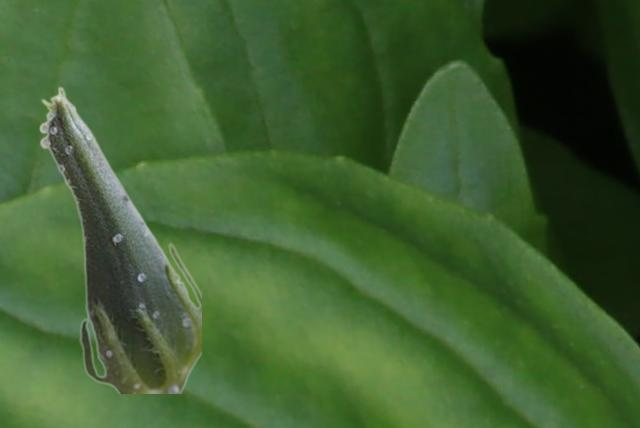okra: (38, 86, 200, 392)
